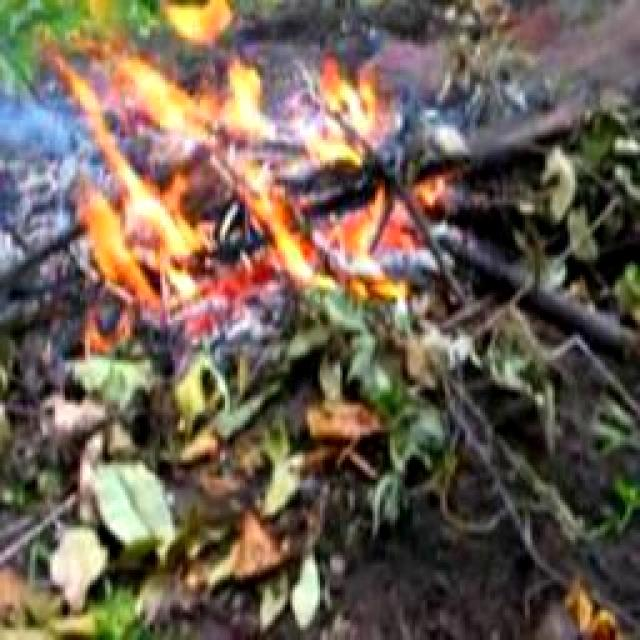fire: (44, 61, 272, 297), (282, 188, 406, 300), (300, 59, 368, 198)
